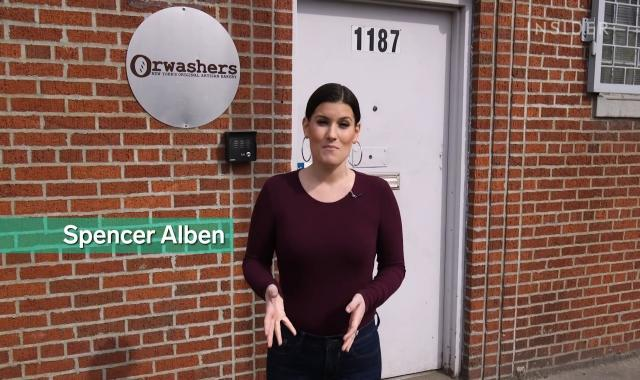no_hairnet: (301, 82, 361, 166)
